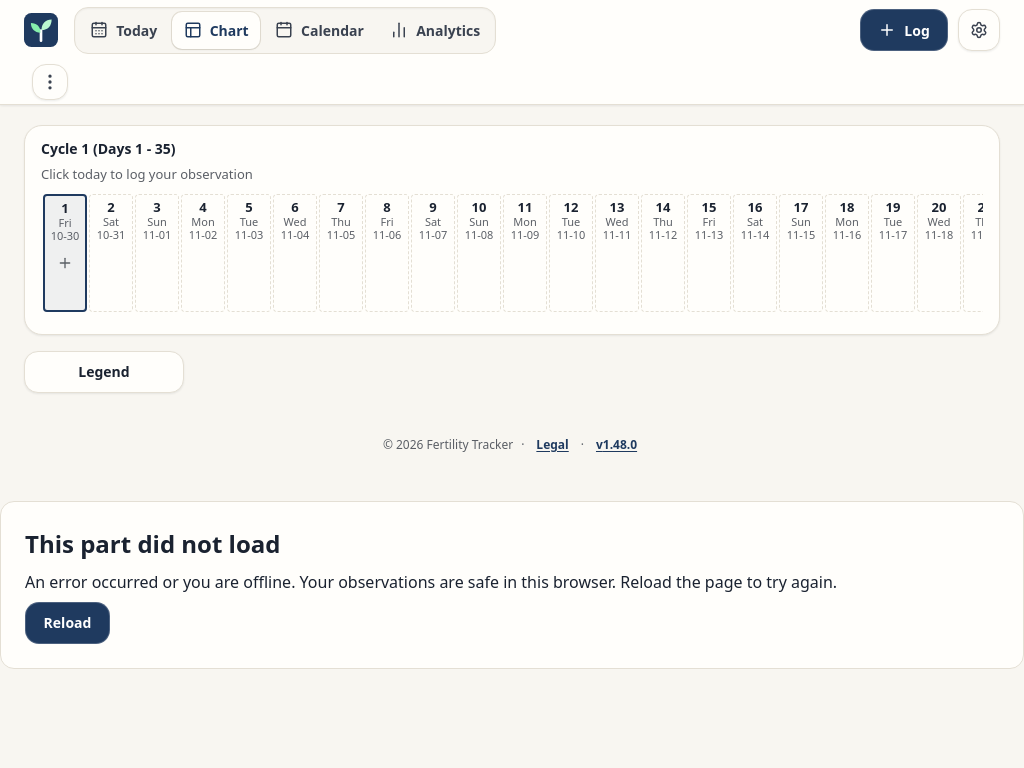
Scenario: App with chunks that fail to load › shows an error dialog for a dialog chunk that the preload could not import
Click the button "v1.48.0". click: (617, 445)
box: [592,429,641,461]
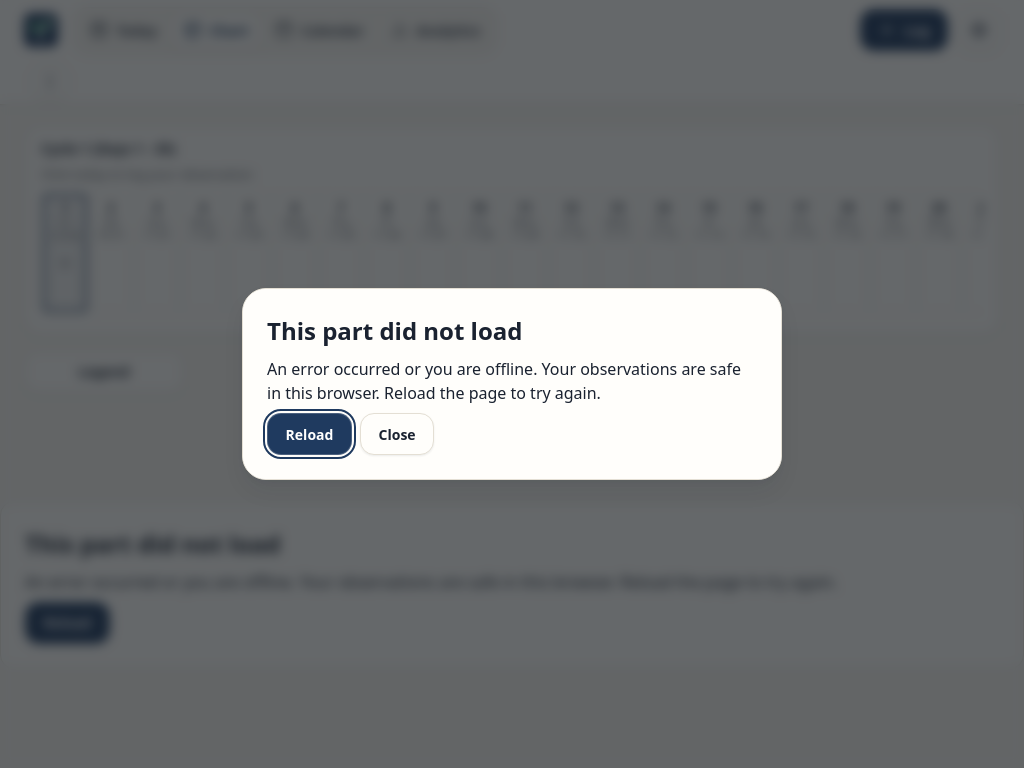
Expected: the button "Reload" is shown, [267,413,352,455]
